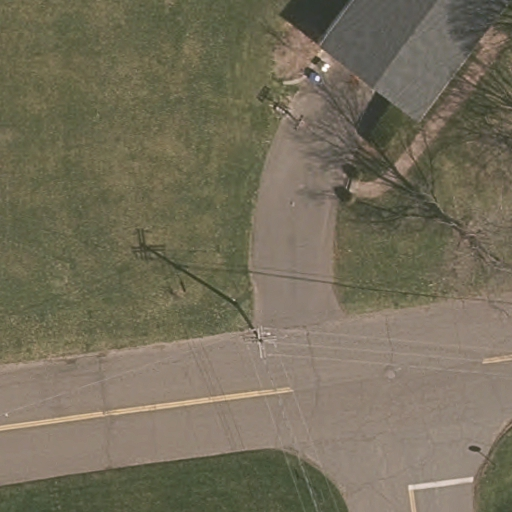DT: (236, 322, 281, 361)
